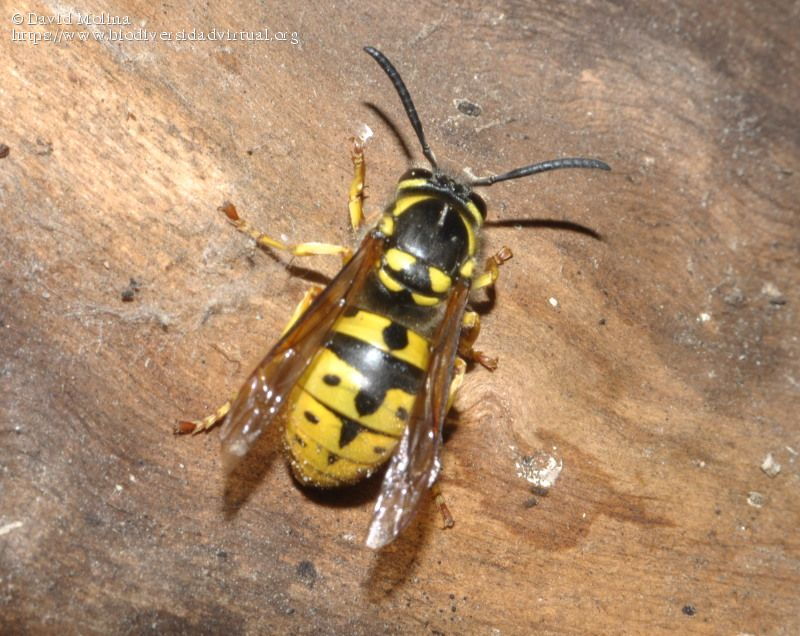chax: (147, 62, 618, 559)
